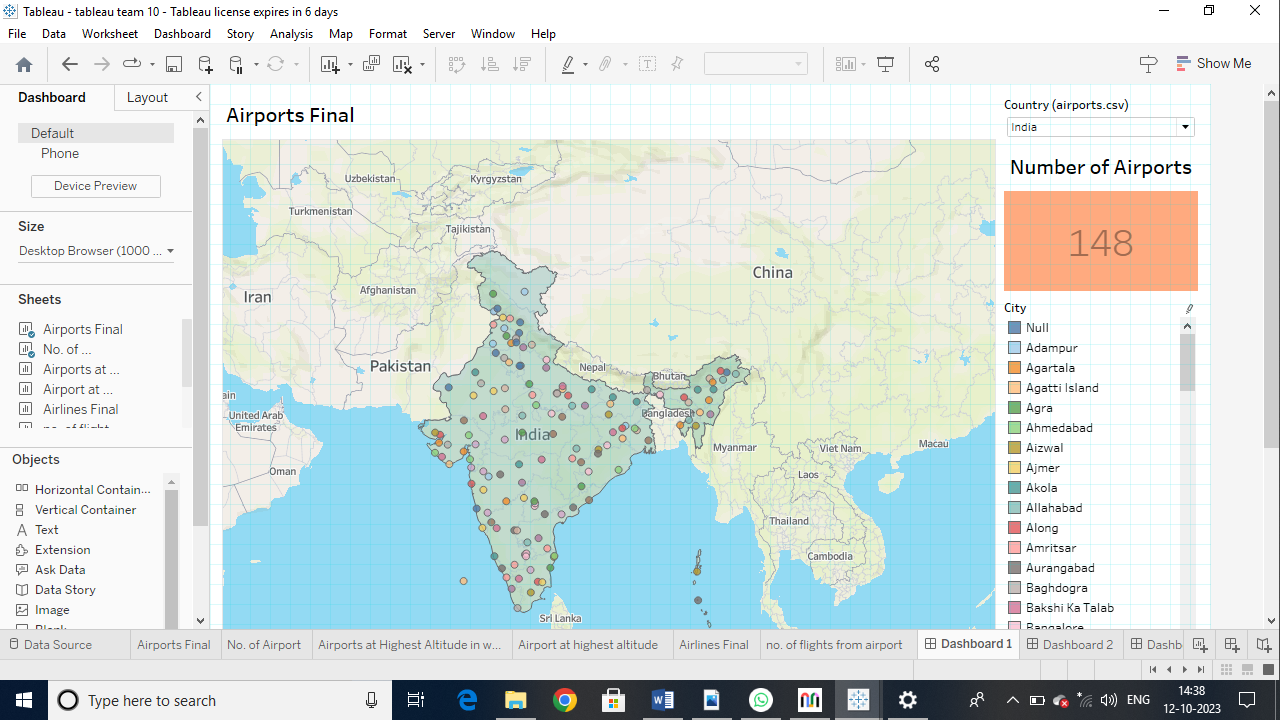

Layout of this report page (visuals, bound fields, positions):
{"tool":"tableau","page":{"name":"Dashboard 1","canvas":[1000,800],"ordinal":0},"visuals":[{"type":"worksheet","title":"Airports Final","mark":"Multipolygon","rows":["Latitude"],"cols":["Longitude","Longitude"],"box":[8,8,782,784]},{"type":"filter","title":"Airports Final","param":"[federated.12byijz1si6xmv18ua5wi1x2ltqk].[none:Country (airports.csv):nk]","box":[790,8,202,52]},{"type":"worksheet","title":"No. of Airport","mark":"Automatic","box":[790,60,202,151]},{"type":"legend","title":"Airports Final","param":"[federated.12byijz1si6xmv18ua5wi1x2ltqk].[none:City:nk]","box":[790,211,202,445]},{"type":"filter","title":"No. of Airport","param":"[federated.12byijz1si6xmv18ua5wi1x2ltqk].[none:Country (airports.csv):nk]","box":[790,656,202,136]}]}

Visuals, with their boxes on the page's 1000x800 design canvas (x1, y1, x2, y2). These are canvas units, not pixel positions in the 1280x720 screenshot, which may show the page scaled, cropped or inside an application window:
"Airports Final" worksheet (Multipolygon marks): x1=8, y1=8, x2=790, y2=792
"Airports Final" filter: x1=790, y1=8, x2=992, y2=60
"No. of Airport" worksheet: x1=790, y1=60, x2=992, y2=211
"Airports Final" legend: x1=790, y1=211, x2=992, y2=656
"No. of Airport" filter: x1=790, y1=656, x2=992, y2=792
